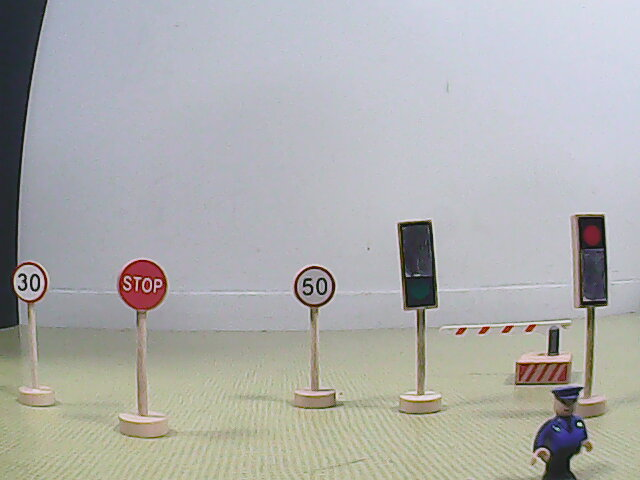barrier: (438, 318, 577, 388)
green_traffic_sign: (398, 221, 439, 309)
person: (529, 385, 599, 480)
red_traffic_sign: (570, 213, 611, 308)
sign_30: (10, 260, 50, 304)
sign_50: (290, 264, 336, 308)
stop_sign: (116, 257, 169, 314)
